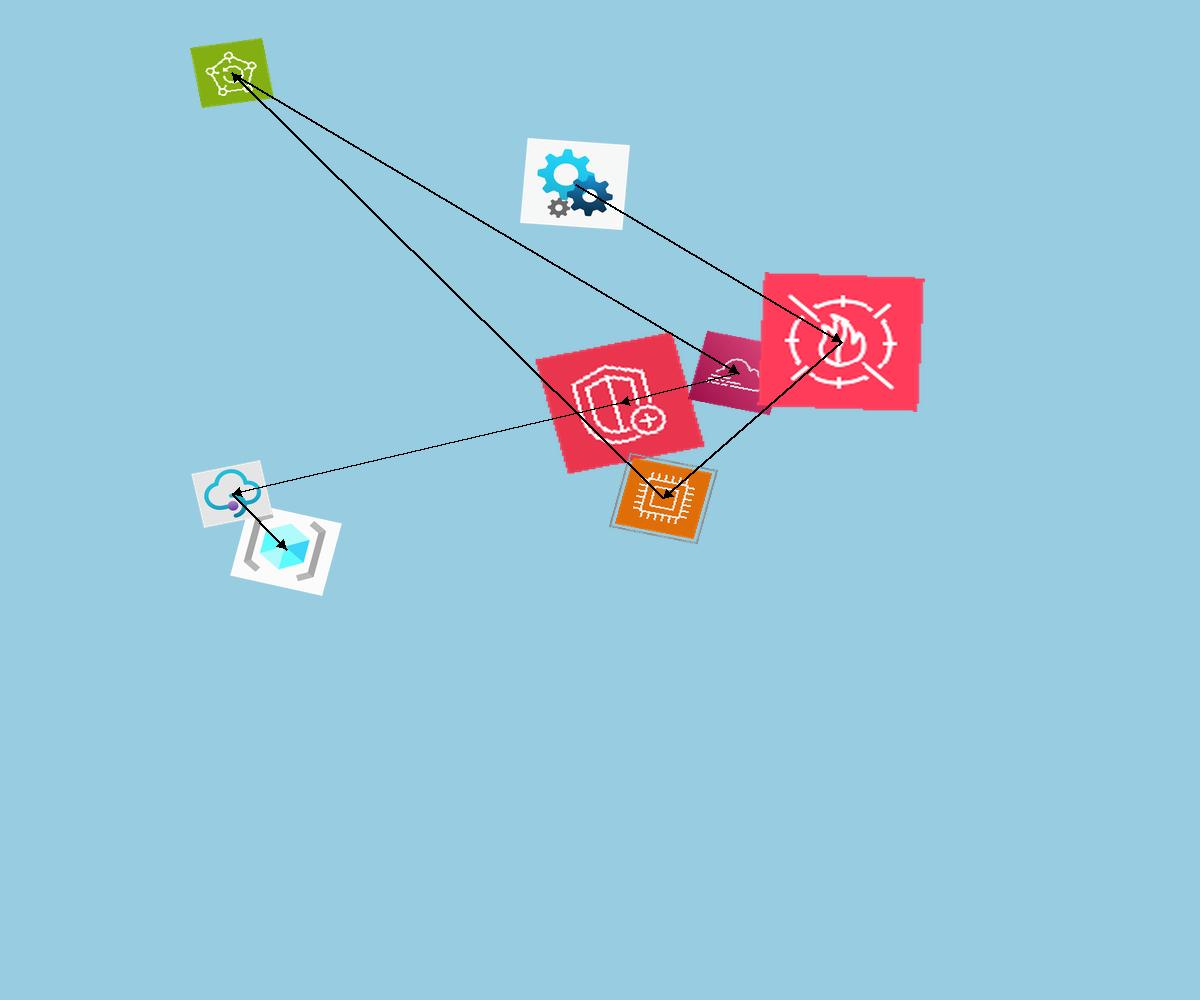AWS-Backup: (190, 38, 274, 108)
AWS-Category_Compute: (608, 452, 719, 545)
AWS-CloudTrail: (687, 330, 790, 416)
AWS-Shield: (534, 331, 706, 475)
AWS-WAF: (757, 272, 925, 412)
Azure_api: (520, 138, 630, 230)
Azure_api_gateway: (191, 460, 273, 528)
Azure_resource_group: (230, 503, 342, 596)
